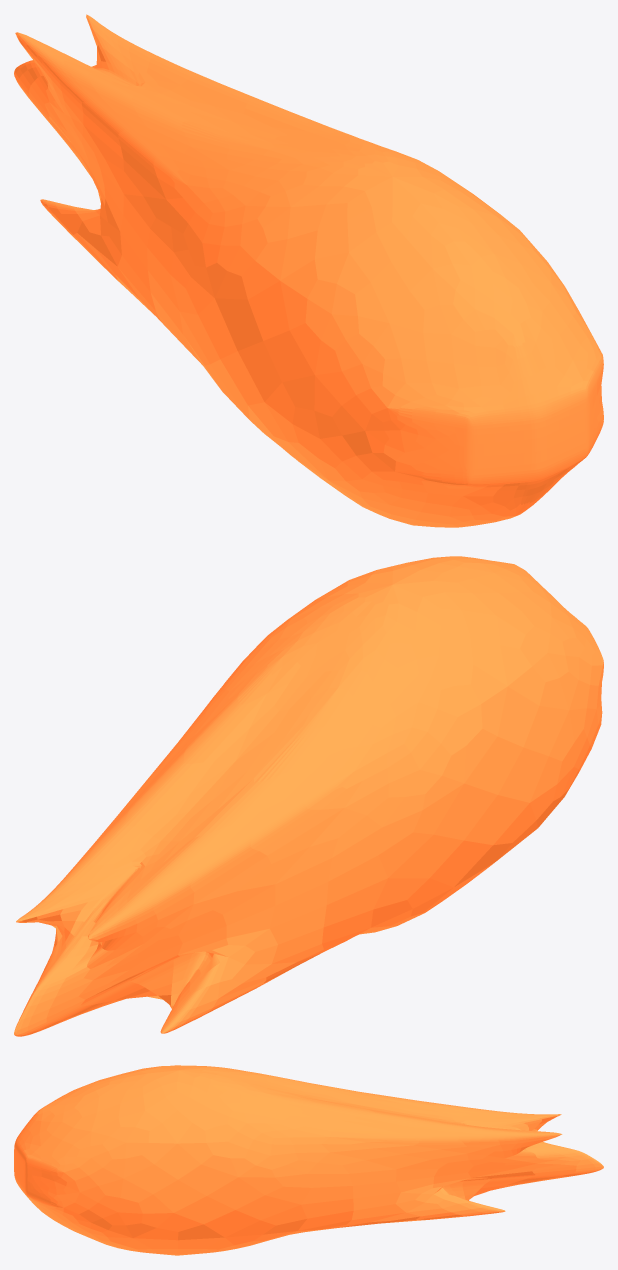
File: lazer bullet.fbx
The picture shows the model from 3 angles, top to bottom: view 1: azimuth 30°, elevation 25°; view 2: azimuth 150°, elevation 25°; view 3: azimuth 270°, elevation 25°; orthographic projection. The views are drawn at different scales.
Parts seen in each view (by area): view 1: Sphere; view 2: Sphere; view 3: Sphere.
Boxes of the visible parts, x1,y1,x2,y2 form: Sphere: [14, 14, 603, 527]; Sphere: [14, 556, 603, 1036]; Sphere: [14, 1065, 603, 1255].
Bounding box in the file's own units: 167 × 192 × 569.
